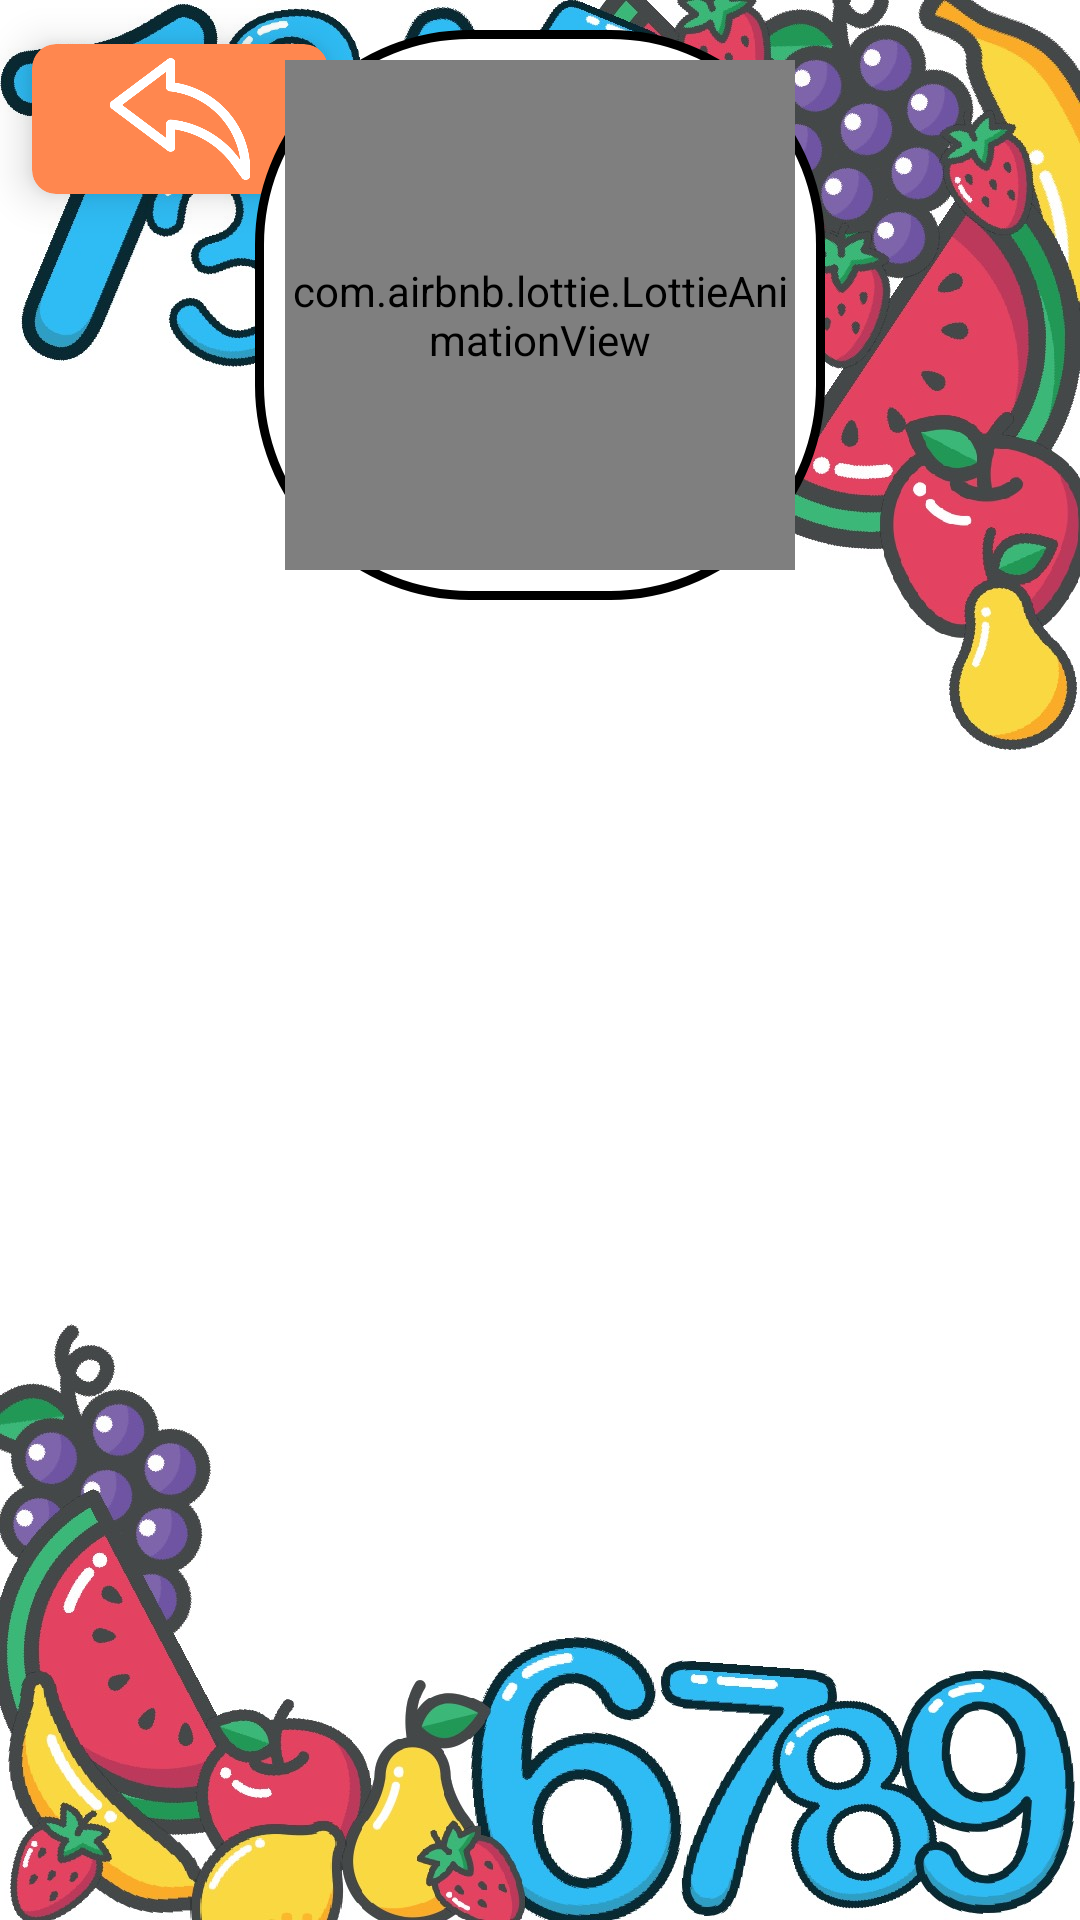

Screen size 1080 x 1920. Icon name, then its box in pixels as box=[x1, y1, x2, y2]:
back: box=[110, 58, 250, 180]
